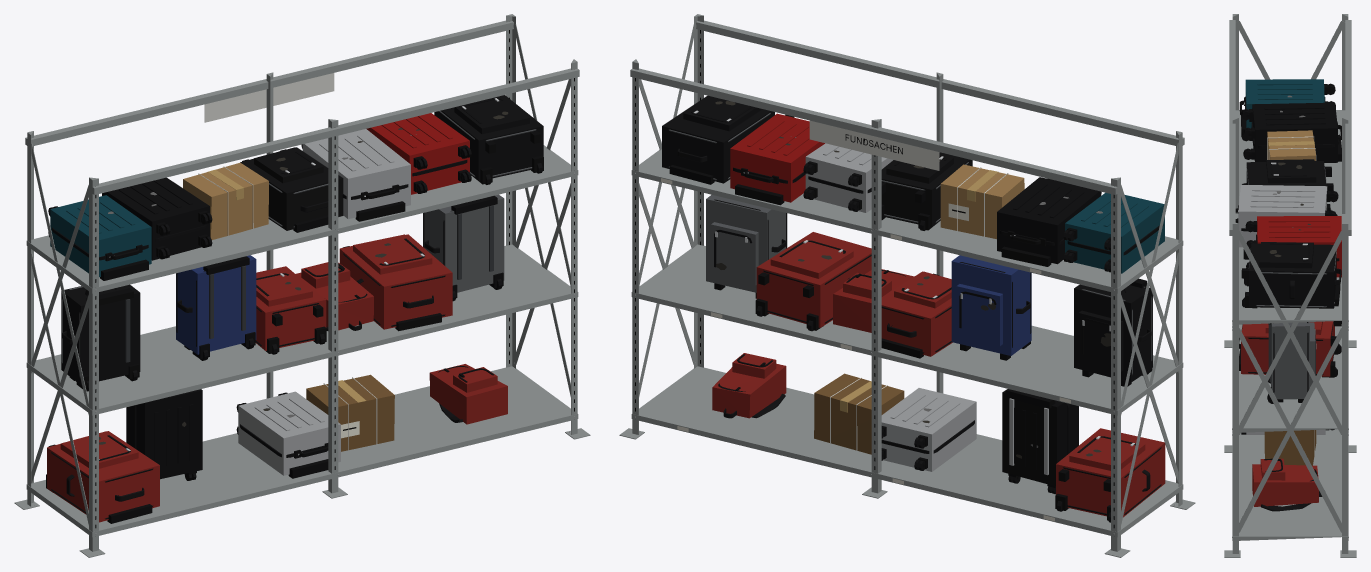
The model's file is luggage_pile@1.glb.
3 renders of one model, left to right at view 1: azimuth 30°, elevation 25°; view 2: azimuth 150°, elevation 25°; view 3: azimuth 270°, elevation 25°, orthographic. The views are drawn at different scales.
Parts seen in each view (by area): view 1: fund_0, fund_5, fund_6, fund_16, fund_13, fund_10, fund_21, fund_22, fund_24, fund_26, fund_25, fund_7 (+4 smaller); view 2: fund_0, fund_5, fund_6, fund_13, fund_16, fund_22, fund_21, fund_10, fund_26, fund_7, fund_24, fund_17 (+4 smaller); view 3: fund_0, fund_6, fund_5, fund_13, fund_16, fund_21, fund_26, fund_24, fund_10, fund_7, fund_17, fund_25 (+3 smaller).
Part boxes in pixels (<box>): fund_0: <box>14,14,590,557</box>; fund_5: <box>47,234,507,522</box>; fund_6: <box>51,95,543,519</box>; fund_16: <box>238,129,410,475</box>; fund_13: <box>102,177,209,479</box>; fund_10: <box>46,131,543,523</box>; fund_21: <box>61,111,536,376</box>; fund_22: <box>176,255,256,354</box>; fund_24: <box>50,195,151,277</box>; fund_26: <box>366,113,469,194</box>; fund_25: <box>183,162,268,239</box>; fund_7: <box>48,98,542,480</box>; fund_0: <box>619,14,1195,557</box>; fund_5: <box>712,232,1165,517</box>; fund_6: <box>662,95,1161,515</box>; fund_13: <box>997,177,1100,486</box>; fund_16: <box>805,143,976,471</box>; fund_22: <box>951,255,1031,355</box>; fund_21: <box>668,113,1152,374</box>; fund_10: <box>669,150,1152,520</box>; fund_26: <box>730,113,824,202</box>; fund_7: <box>691,106,1163,522</box>; fund_24: <box>1065,192,1164,273</box>; fund_17: <box>814,373,904,454</box>; fund_0: <box>1224,14,1356,557</box>; fund_6: <box>1239,159,1341,511</box>; fund_5: <box>1241,321,1334,506</box>; fund_13: <box>1252,102,1337,162</box>; fund_16: <box>1238,184,1327,434</box>; fund_21: <box>1246,166,1336,399</box>; fund_26: <box>1257,216,1341,277</box>; fund_24: <box>1245,79,1324,128</box>; fund_10: <box>1235,84,1341,472</box>; fund_7: <box>1238,83,1341,481</box>; fund_17: <box>1264,430,1316,465</box>; fund_25: <box>1267,130,1315,160</box>.
Bounding box in the file's own units: 3.1 × 2.2 × 0.8.
